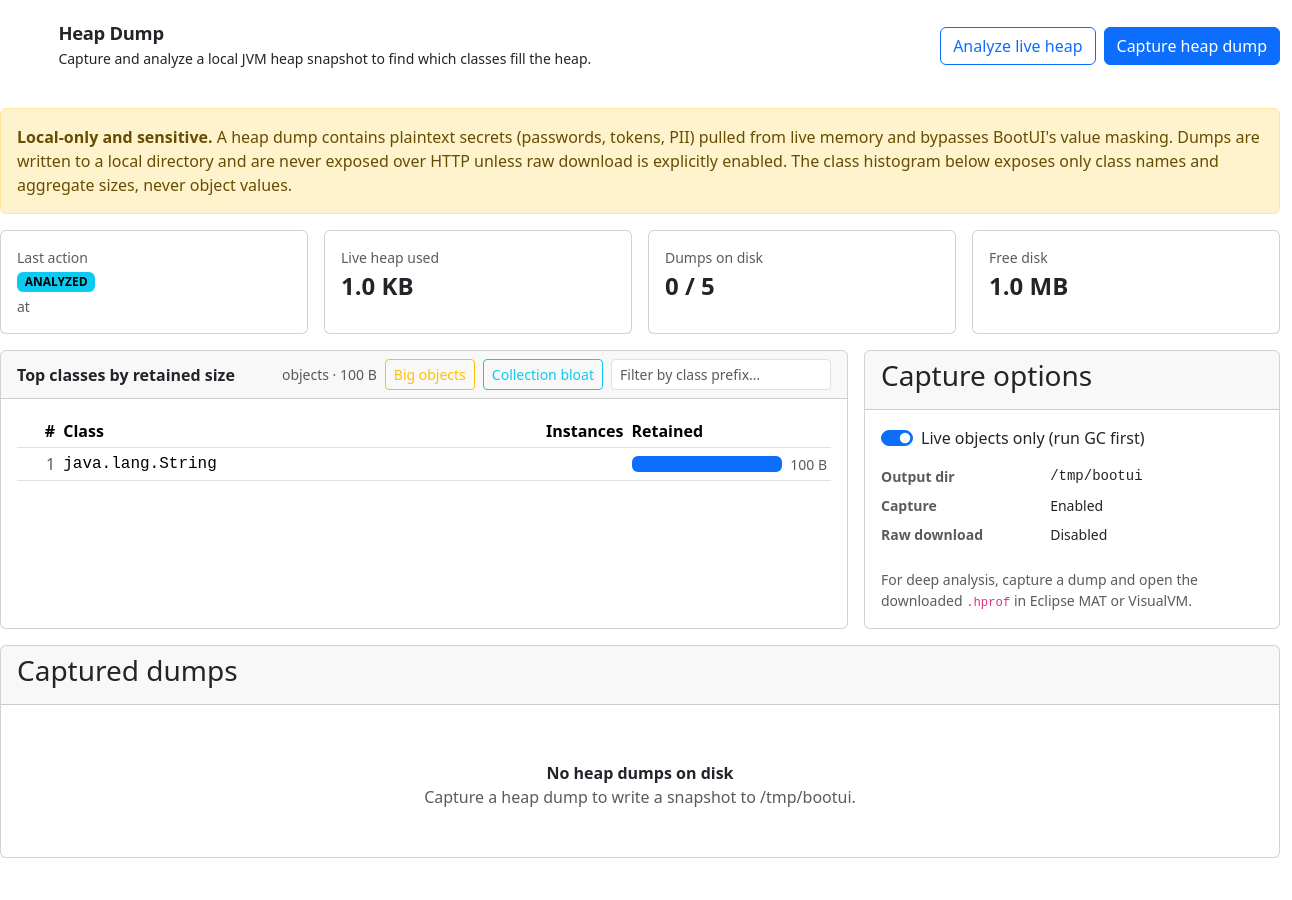
HeapDump › retains the histogram and shows a warning when another heap action is active
What coordinates should you click on to do the following:
click the button "Analyze live heap"
I would click on:
 (1018, 46)
Its box is [940, 27, 1096, 65].
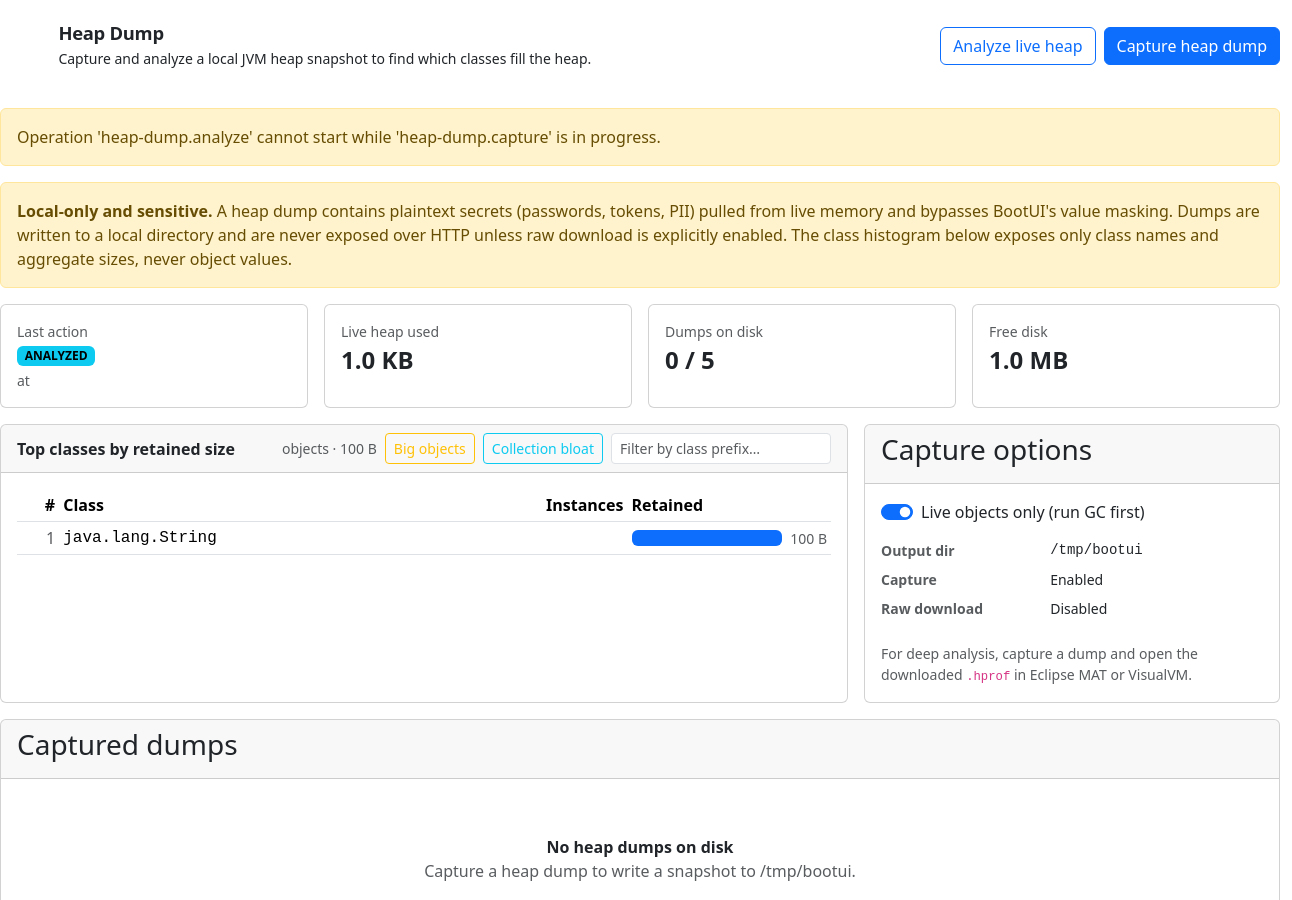
Check: the text "java.lang.String" is shown, box [59, 522, 431, 555]
Check: the text "Operation 'heap-dump.analyze' cannot start while 'heap-dump.capture' is in progress." is shown, box [17, 126, 661, 148]
Check: the message is shown, box [0, 108, 1280, 166]
